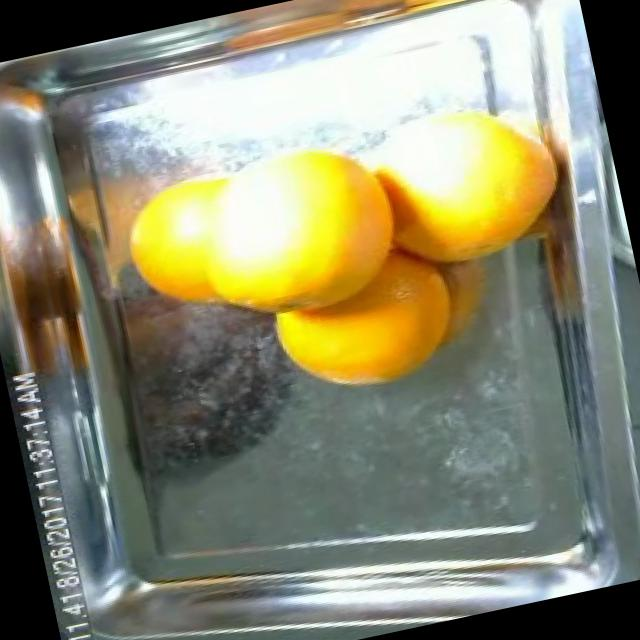Fruit: (89, 254, 299, 416)
